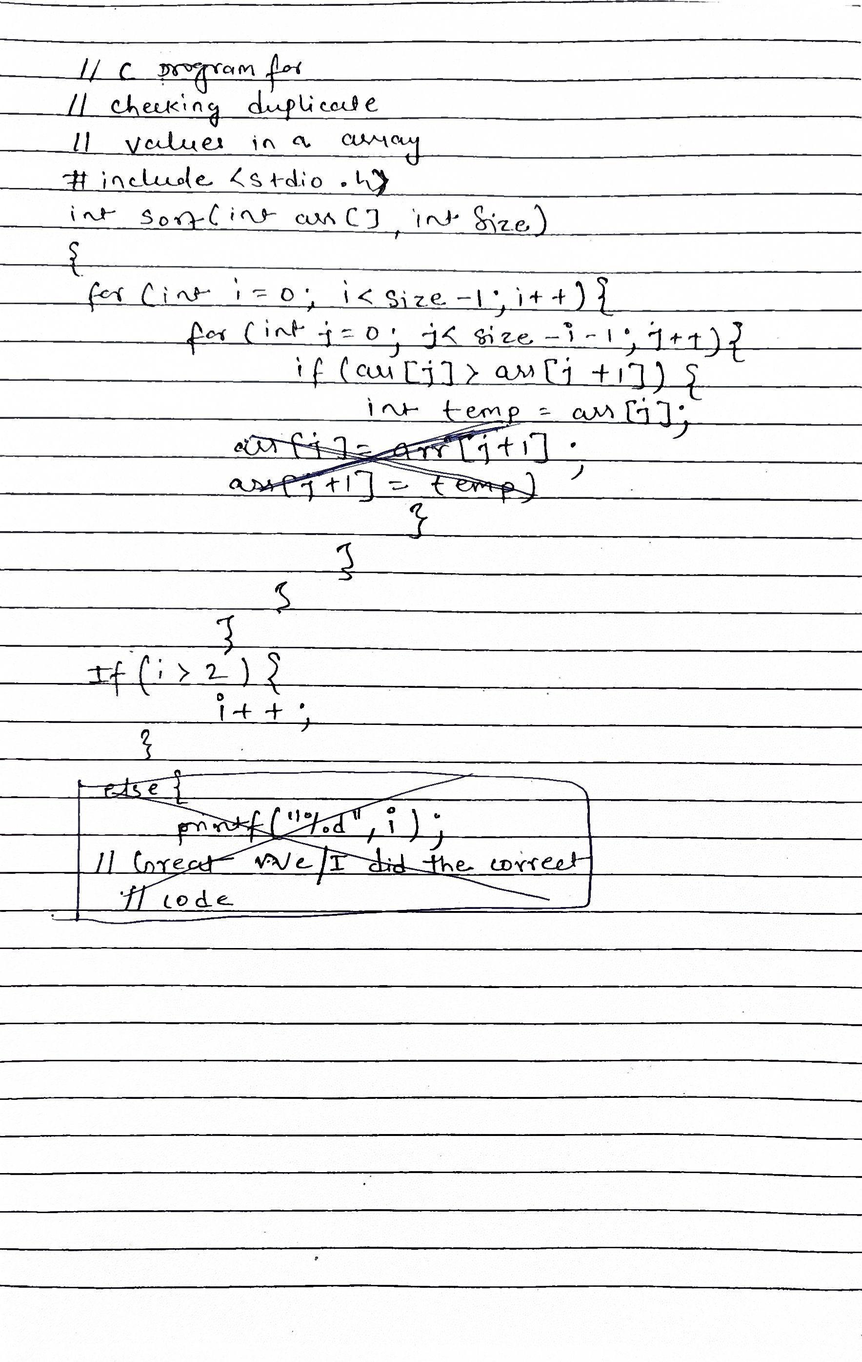cuttings: (71, 767, 596, 924), (225, 424, 555, 504)
